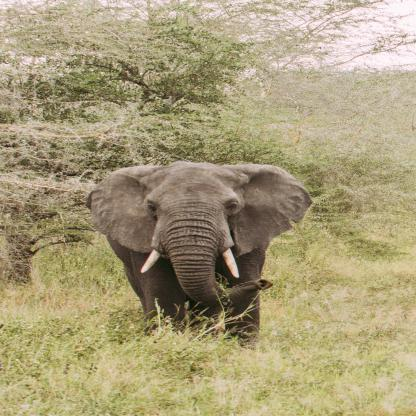Elephas-maximus: (84, 160, 314, 352)
